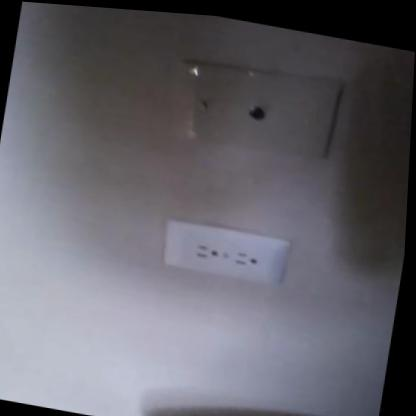OUTLET: (156, 216, 291, 287)
